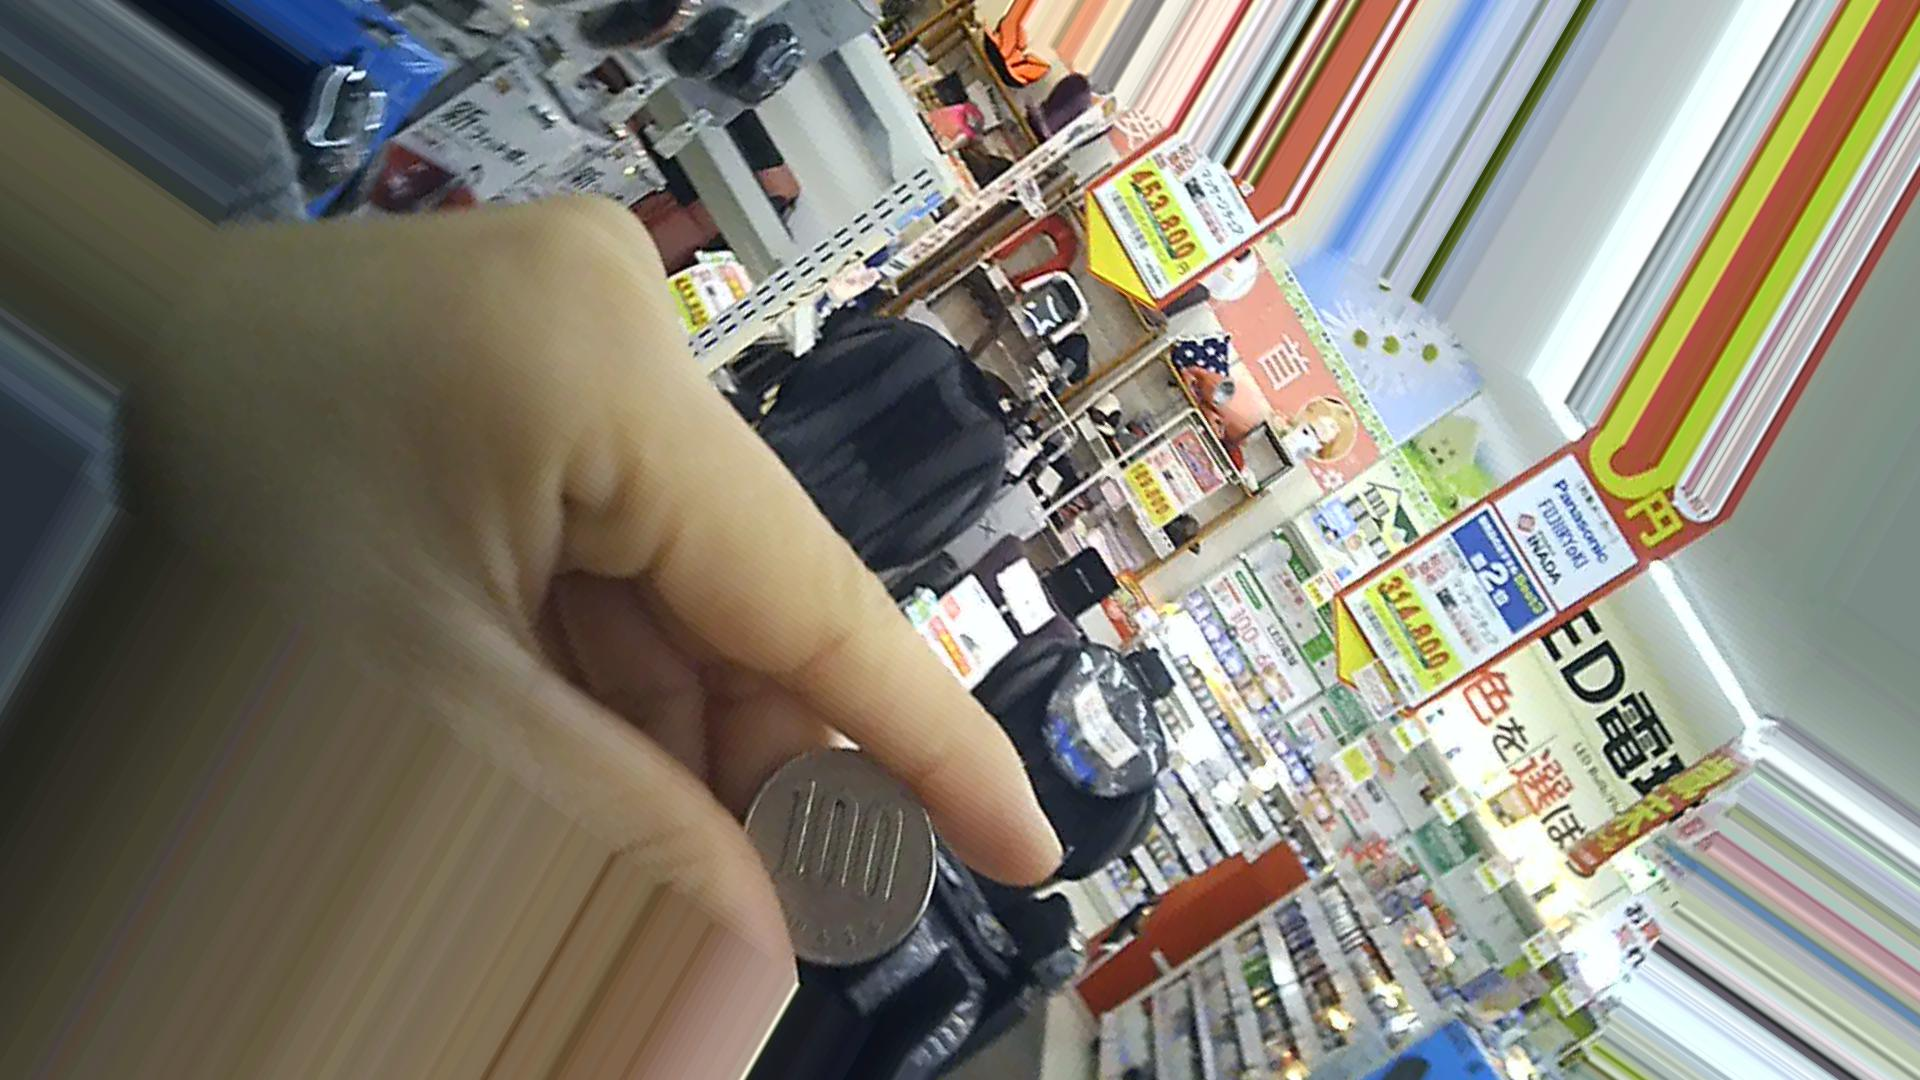100 Yen: (733, 731, 945, 968)
